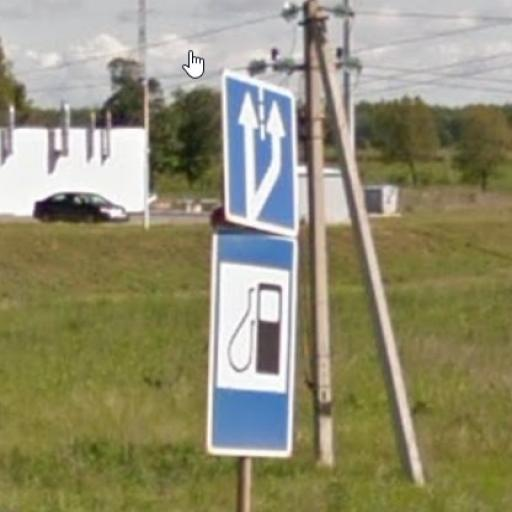traffic_sign: (207, 219, 302, 462)
